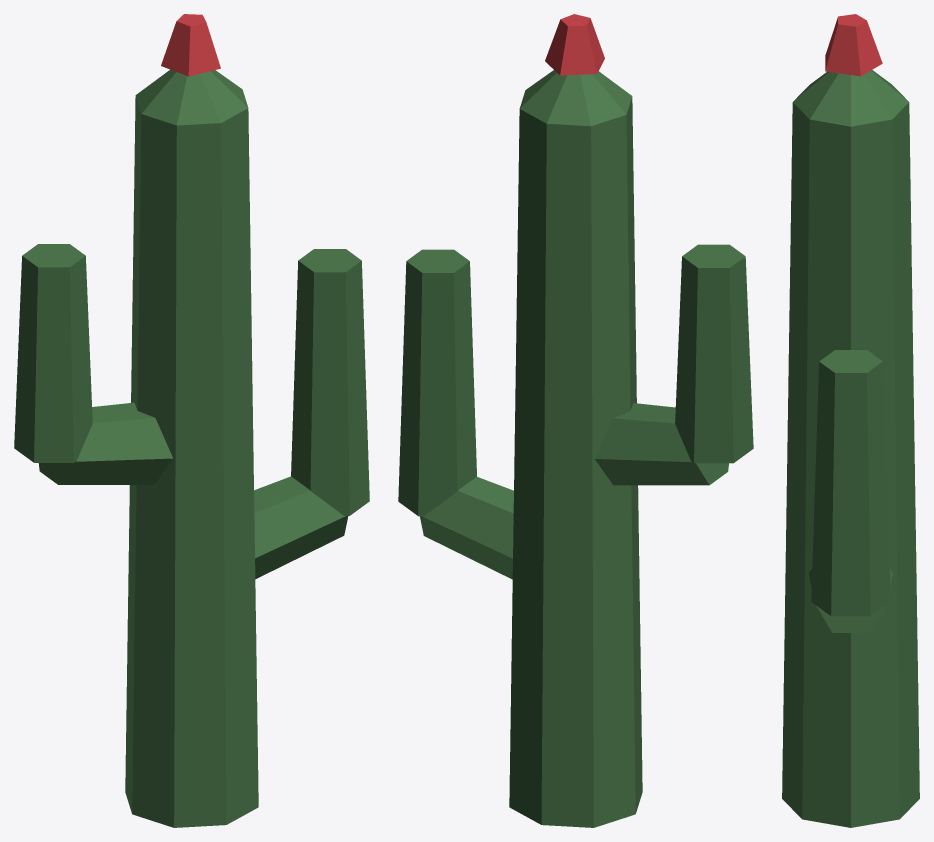
The model's file is nat-cacto.gltf.
3 views of the same model, side by side, from view 1: azimuth 30°, elevation 25°; view 2: azimuth 150°, elevation 25°; view 3: azimuth 270°, elevation 25° (orthographic).
Parts seen in each view (by area): view 1: nat-cacto; view 2: nat-cacto; view 3: nat-cacto.
Part boxes in pixels (bbox=[...]): nat-cacto: bbox=[14, 14, 369, 827]; nat-cacto: bbox=[398, 14, 753, 827]; nat-cacto: bbox=[782, 14, 919, 827].
Size of the model in its own units: 0.7299 by 1.62 by 0.26.
